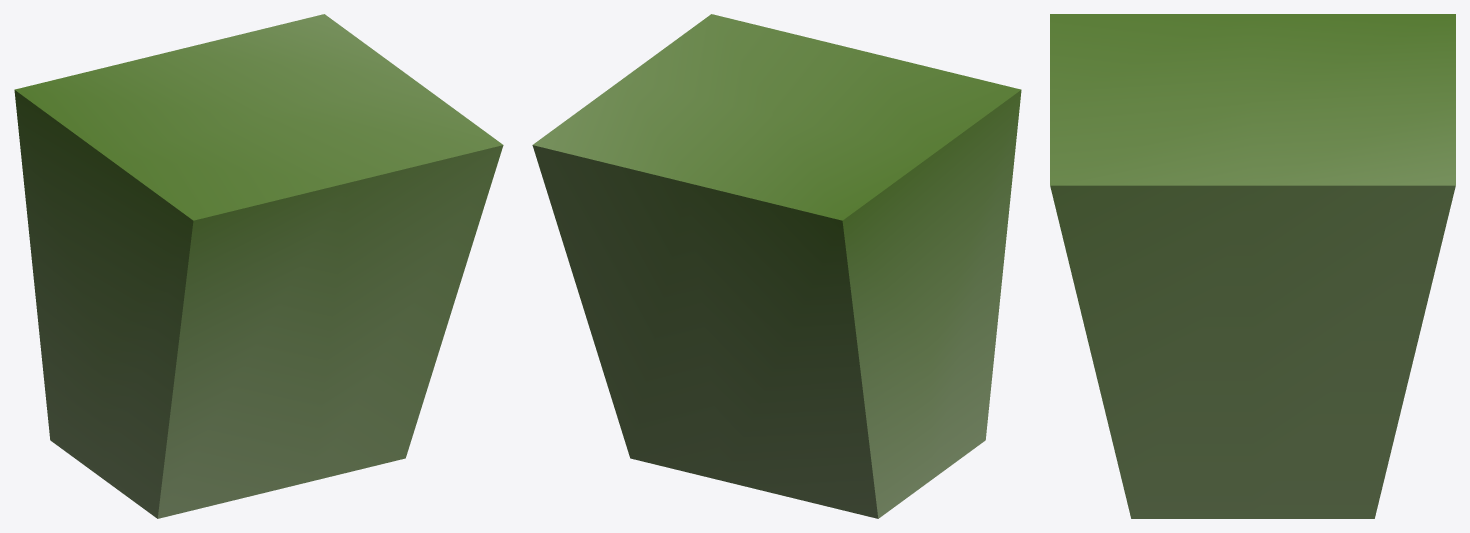
The picture shows the model from 3 angles, left to right: view 1: azimuth 30°, elevation 25°; view 2: azimuth 150°, elevation 25°; view 3: azimuth 270°, elevation 25°; orthographic projection. The views are drawn at different scales.
Parts seen in each view (by area): view 1: 3, 1, 4, 2; view 2: 4, 2, 3, 1; view 3: 1, 2, 3, 4.
Part boxes in pixels (x1,y1,x2,y2): 3: [104, 117, 348, 518]; 1: [259, 79, 503, 480]; 4: [14, 52, 258, 479]; 2: [169, 14, 413, 117]; 4: [687, 117, 931, 518]; 2: [532, 79, 776, 480]; 3: [777, 52, 1021, 479]; 1: [622, 14, 866, 117]; 1: [1050, 99, 1252, 518]; 2: [1253, 99, 1455, 518]; 3: [1050, 14, 1252, 99]; 4: [1253, 14, 1455, 99].
Bounding box in the file's own units: 200 × 200 × 200.
